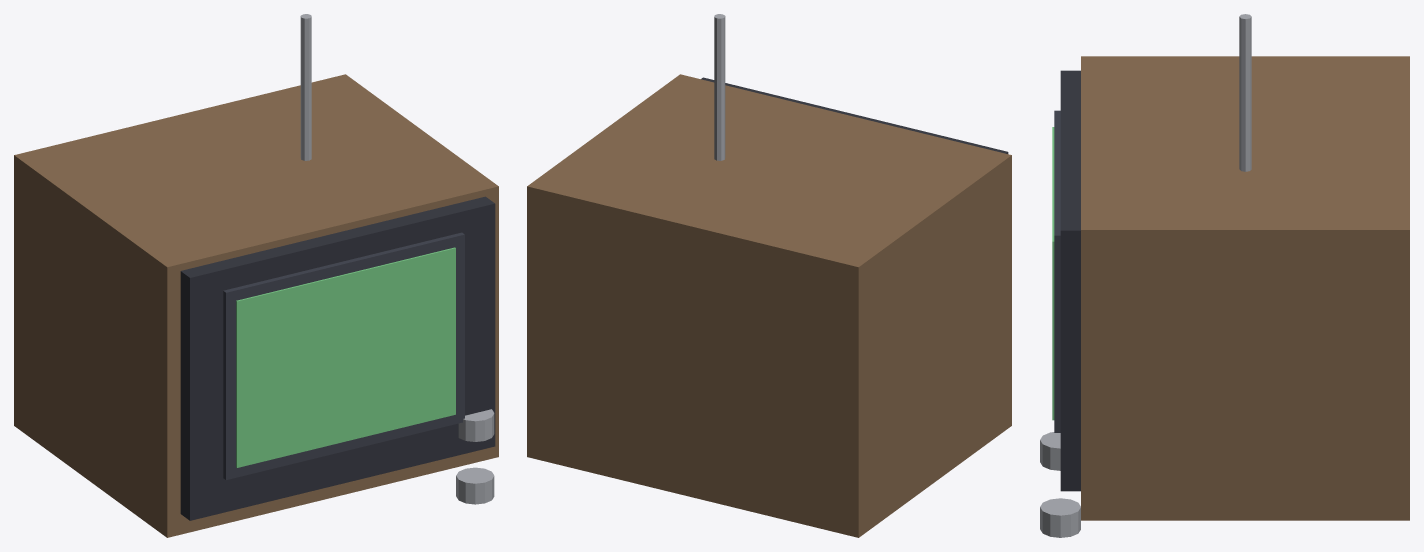
Rendered from tv_pmu.glb.
The picture shows the model from 3 angles, left to right: view 1: azimuth 30°, elevation 25°; view 2: azimuth 150°, elevation 25°; view 3: azimuth 270°, elevation 25°; orthographic projection. The views are drawn at different scales.
Visible parts, largest first — view 1: world; view 2: world; view 3: world.
Part boxes in pixels (x1=…): world: x1=14, y1=14, x2=498, y2=537; world: x1=527, y1=14, x2=1011, y2=537; world: x1=1040, y1=14, x2=1409, y2=537.
Size of the model in its own units: 1 by 1.26 by 0.9.
